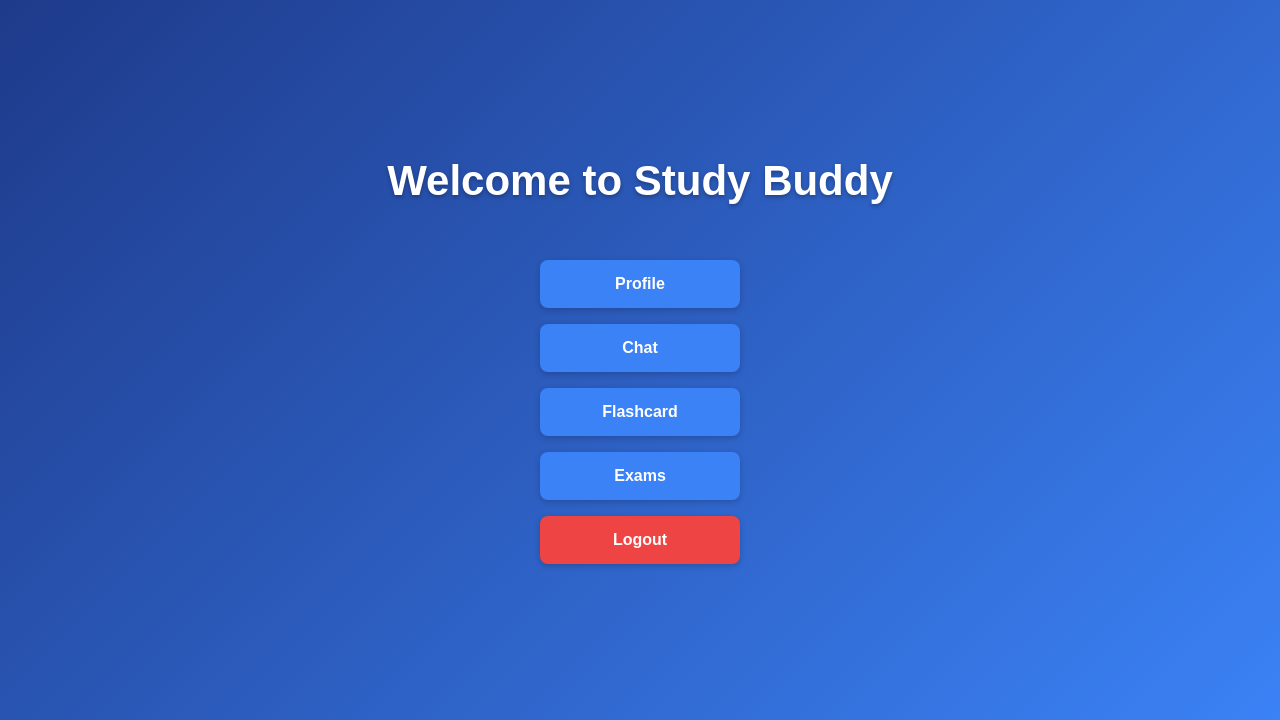
Test: Homepage › should logout and return to homepage state
Click the button "Logout" at (640, 540), box [540,516,740,564]
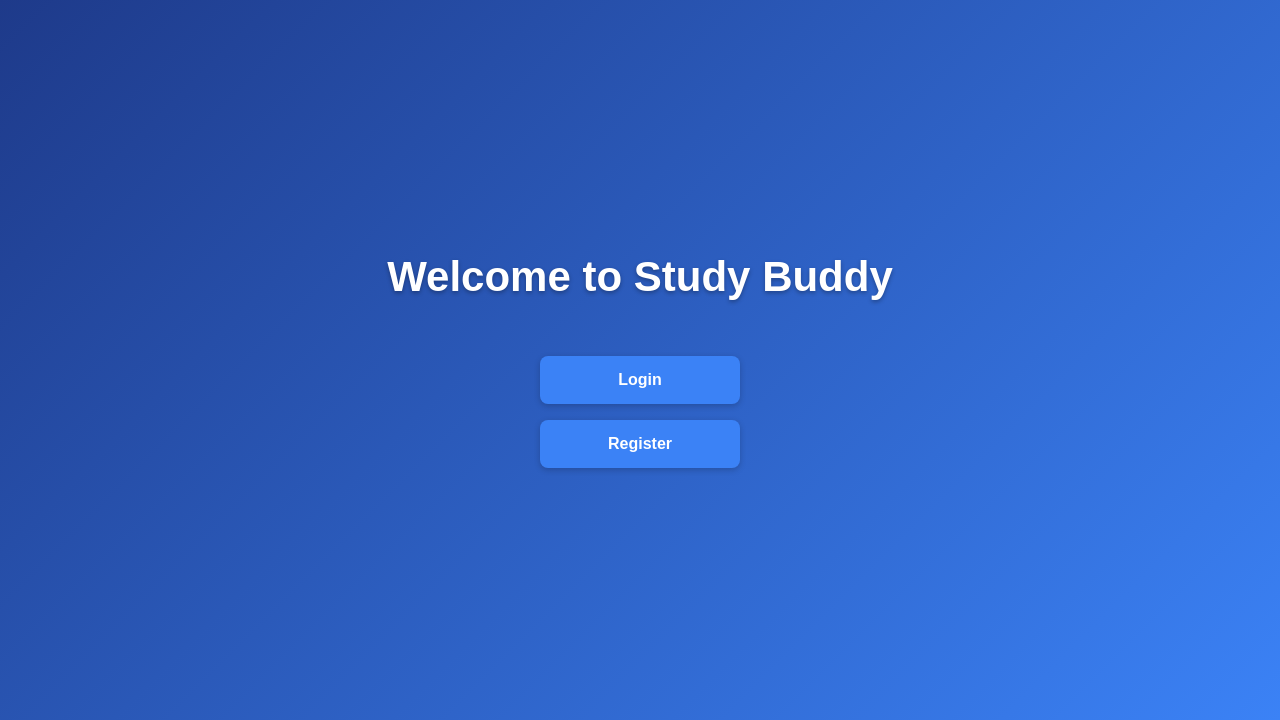
Expected: the button "Login" is shown, [540,356,740,404]
Expected: the button "Register" is shown, [540,420,740,468]
